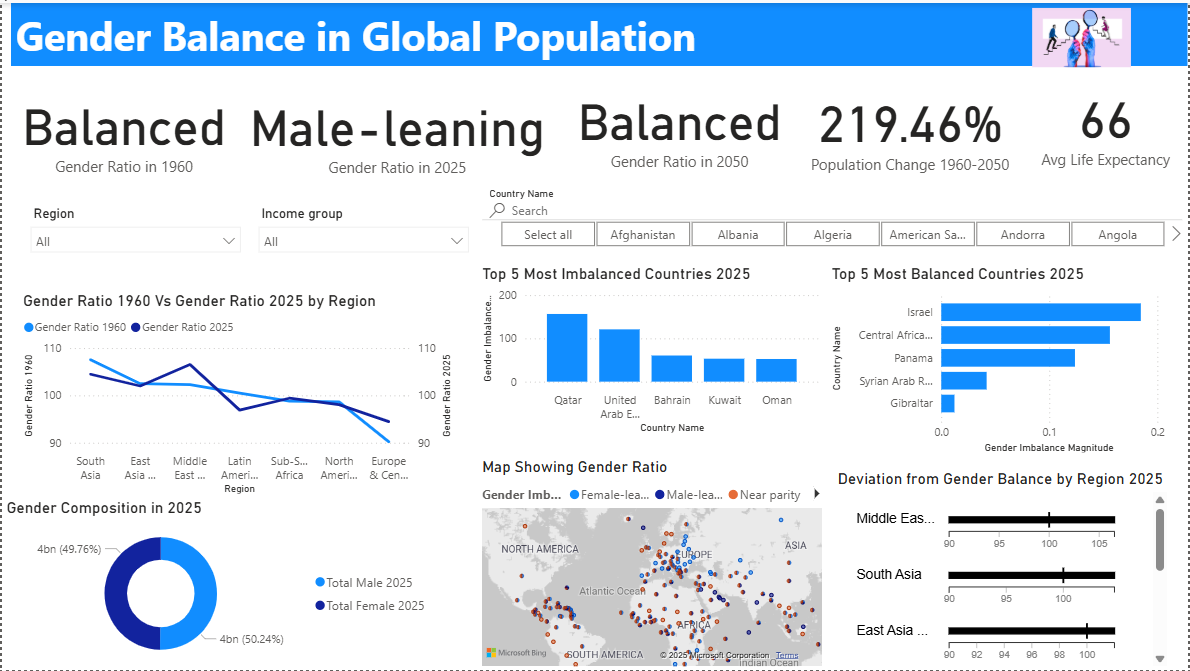

This screenshot's page, from the dashboard's own definition file:
{"tool":"powerbi","page":{"name":"Page 1","canvas":[1280,720],"ordinal":0},"visuals":[{"type":"textbox","box":[9.4,0,1269.9,68],"z":0},{"type":"image","box":[1091.4,0,147.3,74.5],"z":1000},{"type":"card","fields":{"Values":["Population Figures & Projections.Population Change 1960-2050"]},"box":[867.2,74.1,224.1,120.7],"z":2000},{"type":"card","fields":{"Values":["Population Figures & Projections.Gender Parity 1960 (label)"]},"box":[8.6,82.8,246.6,110.3],"z":3000},{"type":"card","fields":{"Values":["List of economies.Gender Parity in 2025"]},"box":[255.2,84.5,341.4,108.6],"z":4000},{"type":"card","fields":{"Values":["List of economies.Gender Parity in 2050"]},"box":[596.6,67.2,270.7,127.6],"z":5000},{"type":"card","fields":{"Values":["Population Figures & Projections.Avg Life Expectancy"]},"box":[1102.7,71.2,176.5,118.2],"z":6000},{"type":"slicer","fields":{"Values":["List of economies.Region"]},"box":[20.7,213.8,246.6,69],"z":7000},{"type":"slicer","fields":{"Values":["List of economies.Income group"]},"box":[267.2,213.8,246.6,65.5],"z":8000},{"type":"slicer","fields":{"Values":["Population Figures & Projections.Country Name"]},"box":[513.8,194.8,765.5,70.7],"z":9000},{"type":"lineChart","title":"Gender Ratio 1960 Vs Gender Ratio 2025 by Region","fields":{"Category":["List of economies.Region"],"Y":["Population Figures & Projections.Gender Ratio 1960"],"Y2":["Population Figures & Projections.Gender Ratio 2025"]},"box":[17.8,310.9,472.8,223.5],"z":10000},{"type":"clusteredColumnChart","title":"Top 5 Most Imbalanced Countries 2025","fields":{"Category":["Population Figures & Projections.Country Name"],"Y":["List of economies.Gender Imbalance Magnitude"]},"box":[513.3,281.7,373.3,186.7],"z":11000},{"type":"clusteredBarChart","title":"Top 5 Most Balanced Countries 2025","fields":{"Category":["Population Figures & Projections.Country Name"],"Y":["List of economies.Gender Imbalance Magnitude"]},"box":[890,281.7,373.3,208.3],"z":12000},{"type":"donutChart","title":"Gender Composition in 2025","fields":{"Y":["Population Figures & Projections.Total Male 2025","Population Figures & Projections.Total Female 2025"]},"box":[0,534.3,471.2,186.2],"z":13000},{"type":"map","title":"Map Showing Gender Ratio","fields":{"Category":["Population Figures & Projections.Country Name"],"Series":["Population Figures & Projections.Gender Imbalance Band"]},"box":[513.3,490,376.7,230],"z":14000},{"type":"BulletChart1443347686880","title":"Deviation from Gender Balance by Region 2025","fields":{"Category":["List of economies.Region"],"Value":["Population Figures & Projections.Gender Ratio 2025"],"TargetValue":["List of economies.Perfect parity"],"Minimum":["List of economies.Minimum ratio"]},"box":[896.4,503.6,365.5,216.4],"z":15000}]}

Visuals, with their boxes in screenshot pixels (x1, y1, x2, y2), scaled from the page's 1280x720 canvas onto the 1190x671 screenshot:
textbox: x1=9 y1=0 x2=1189 y2=63
image: x1=1015 y1=0 x2=1152 y2=69
card - Population Figures & Projections.Population Change 1960-2050: x1=806 y1=69 x2=1015 y2=182
card - Population Figures & Projections.Gender Parity 1960 (label): x1=8 y1=77 x2=237 y2=180
card - List of economies.Gender Parity in 2025: x1=237 y1=79 x2=555 y2=180
card - List of economies.Gender Parity in 2050: x1=555 y1=63 x2=806 y2=182
card - Population Figures & Projections.Avg Life Expectancy: x1=1025 y1=66 x2=1189 y2=177
slicer - List of economies.Region: x1=19 y1=199 x2=249 y2=264
slicer - List of economies.Income group: x1=248 y1=199 x2=478 y2=260
slicer - Population Figures & Projections.Country Name: x1=478 y1=182 x2=1189 y2=247
"Gender Ratio 1960 Vs Gender Ratio 2025 by Region" lineChart: x1=17 y1=290 x2=456 y2=498
"Top 5 Most Imbalanced Countries 2025" clusteredColumnChart: x1=477 y1=263 x2=824 y2=437
"Top 5 Most Balanced Countries 2025" clusteredBarChart: x1=827 y1=263 x2=1174 y2=457
"Gender Composition in 2025" donutChart: x1=0 y1=498 x2=438 y2=670
"Map Showing Gender Ratio" map: x1=477 y1=457 x2=827 y2=670
"Deviation from Gender Balance by Region 2025" BulletChart1443347686880: x1=833 y1=469 x2=1173 y2=670
